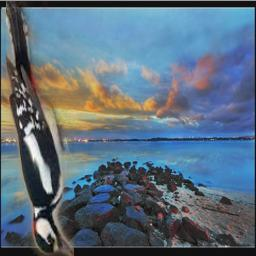Woodpecker: (6, 1, 74, 256)
